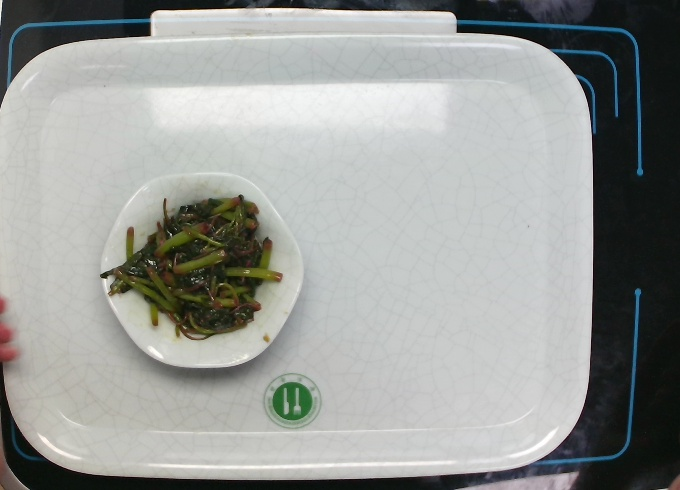WCQzf-Hua_Duo_Wan: (99, 171, 304, 369)
